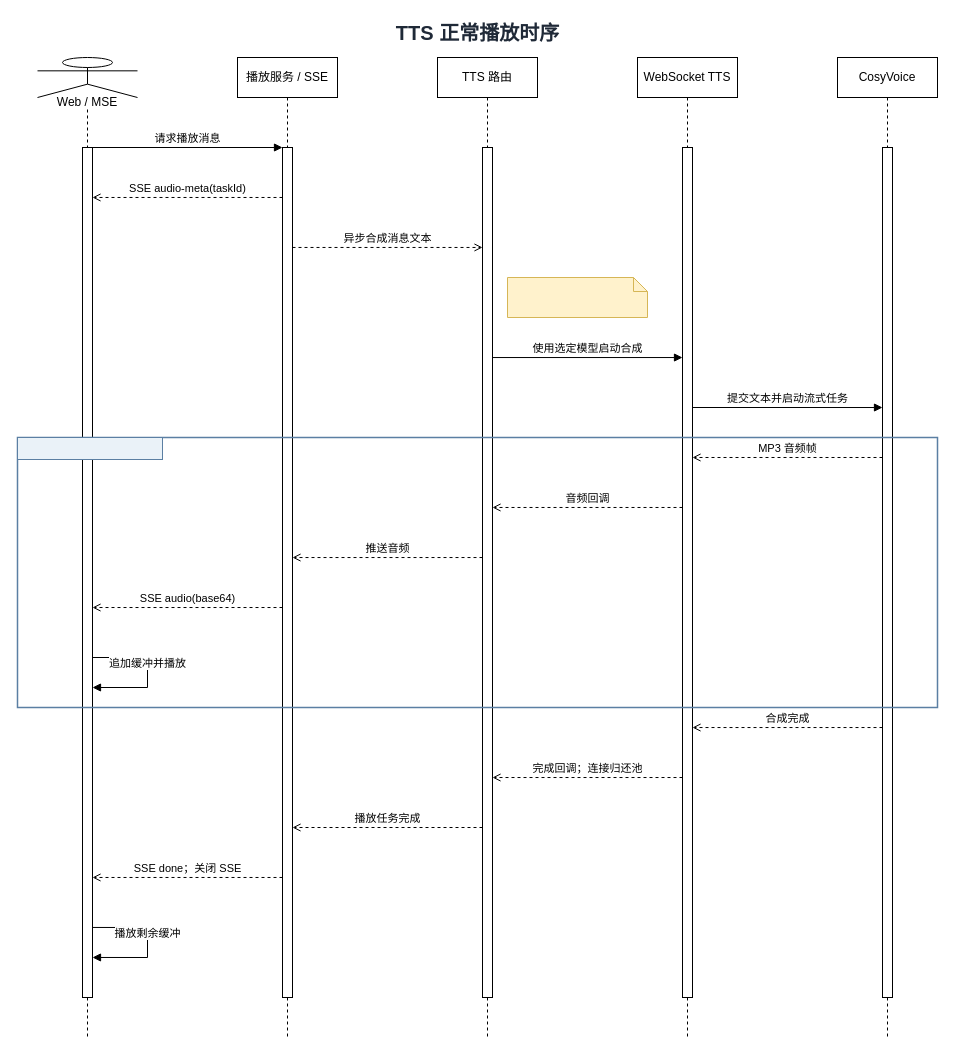
This 956x1055 diagram has some shape labels left out. Here are the shapes that lost their labels. From the top down, the box of each, then its label:
(506, 276, 648, 318): 自动选择可用模型；首帧失败时切换候选
(16, 436, 162, 460): loop [流式音频帧]
